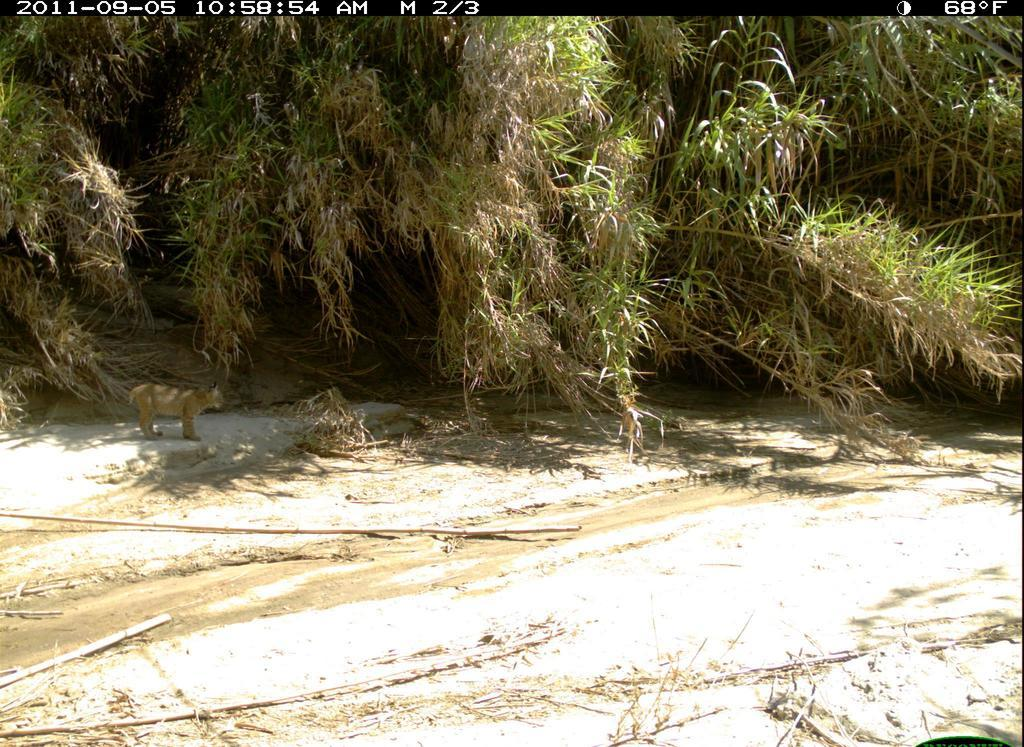bobcat: (123, 383, 236, 450)
